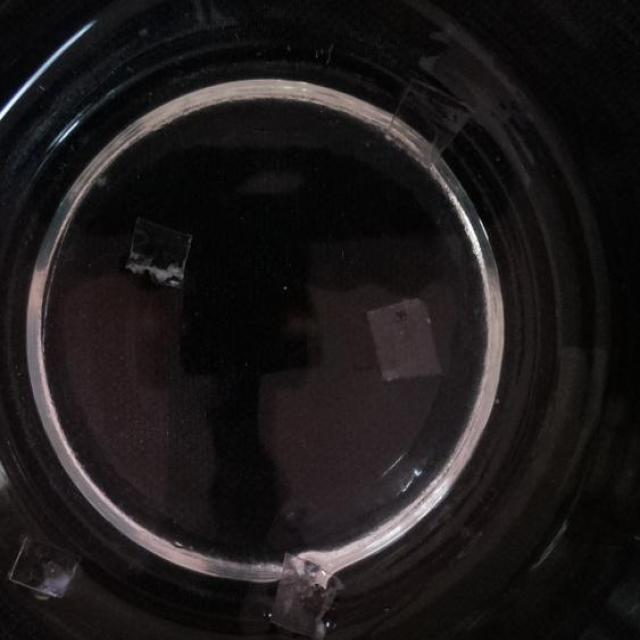fiber: (383, 75, 479, 175), (363, 293, 448, 385), (266, 547, 347, 639), (5, 527, 84, 605), (120, 214, 196, 294)
